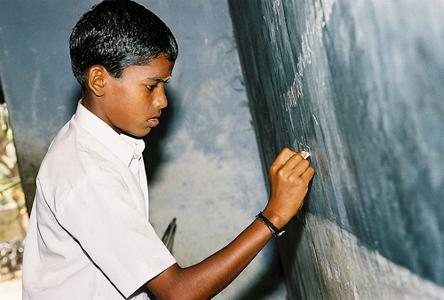person: (23, 3, 312, 300)
